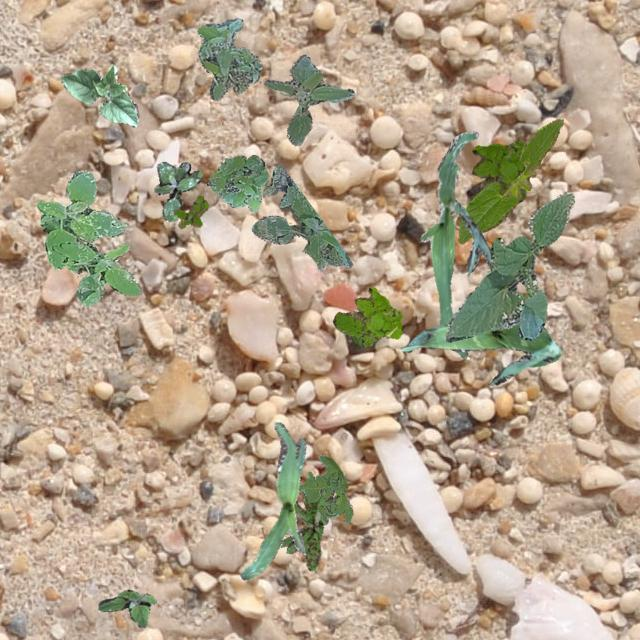crop: (444, 190, 574, 340), (420, 130, 490, 357), (456, 118, 562, 242), (240, 422, 306, 580), (400, 322, 560, 384), (59, 64, 138, 125)
weed: (36, 170, 140, 304), (250, 163, 352, 270), (264, 54, 352, 144), (197, 19, 260, 100), (332, 286, 401, 346), (280, 492, 332, 570), (296, 454, 352, 524), (206, 154, 266, 210), (470, 140, 524, 202), (152, 160, 202, 220), (98, 588, 156, 626), (172, 195, 208, 228)
